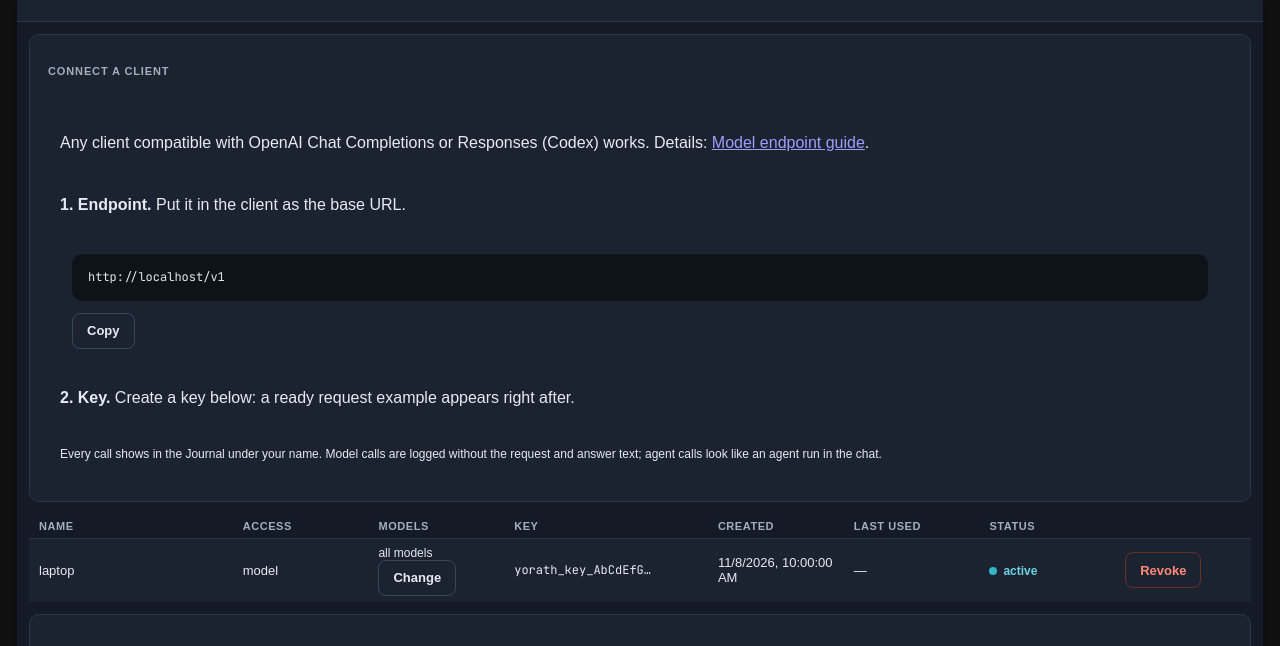
it: Models of a key › the list shows each key’s models; they change without a new key
Expected: the text "all models" is shown, [378,546,432,560]
Click the button with aria-label "Models: laptop" at (417, 578), box [378,560,456,596]
(page scrolled)
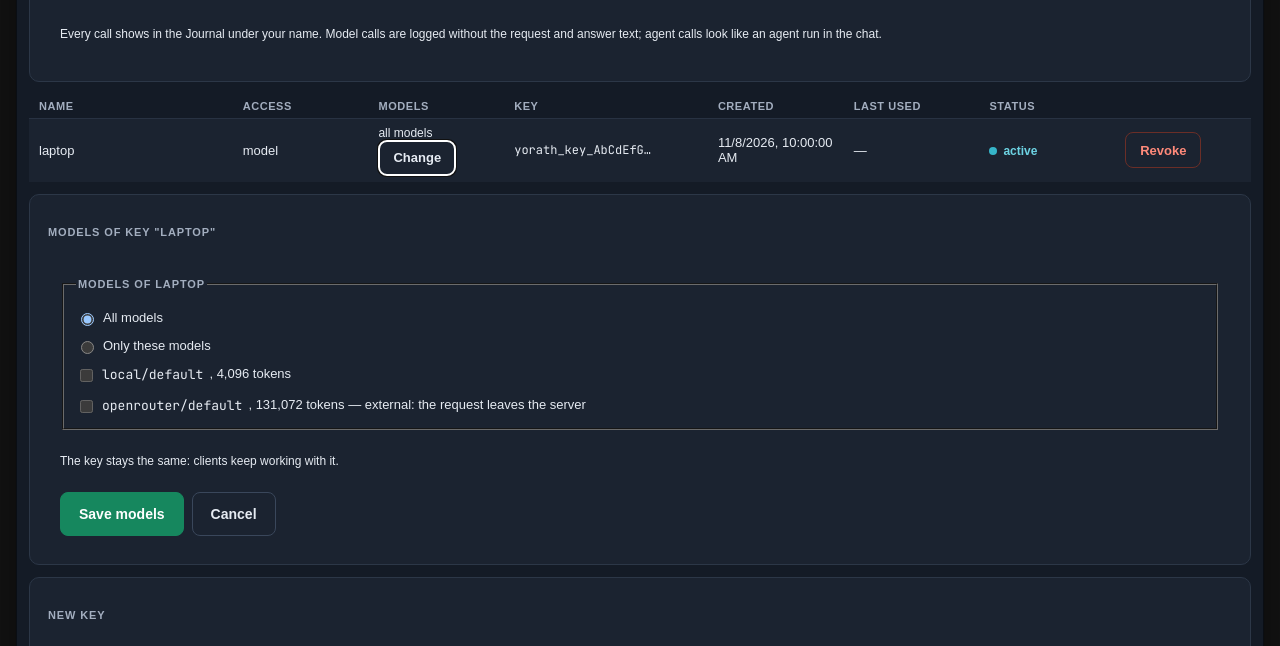
Click the radio button labelled "Only these models" at (88, 348), box [81,341,94,354]
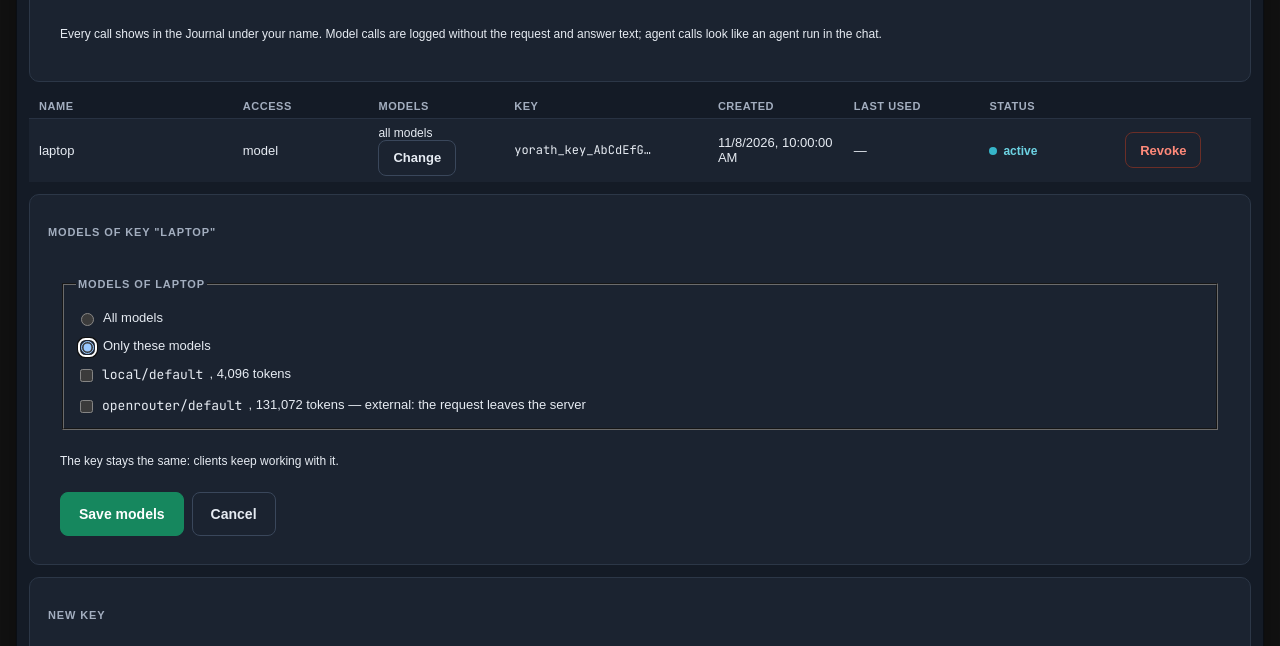
Click the checkbox labelled "openrouter/default" at (86, 407), box [80,400,93,413]
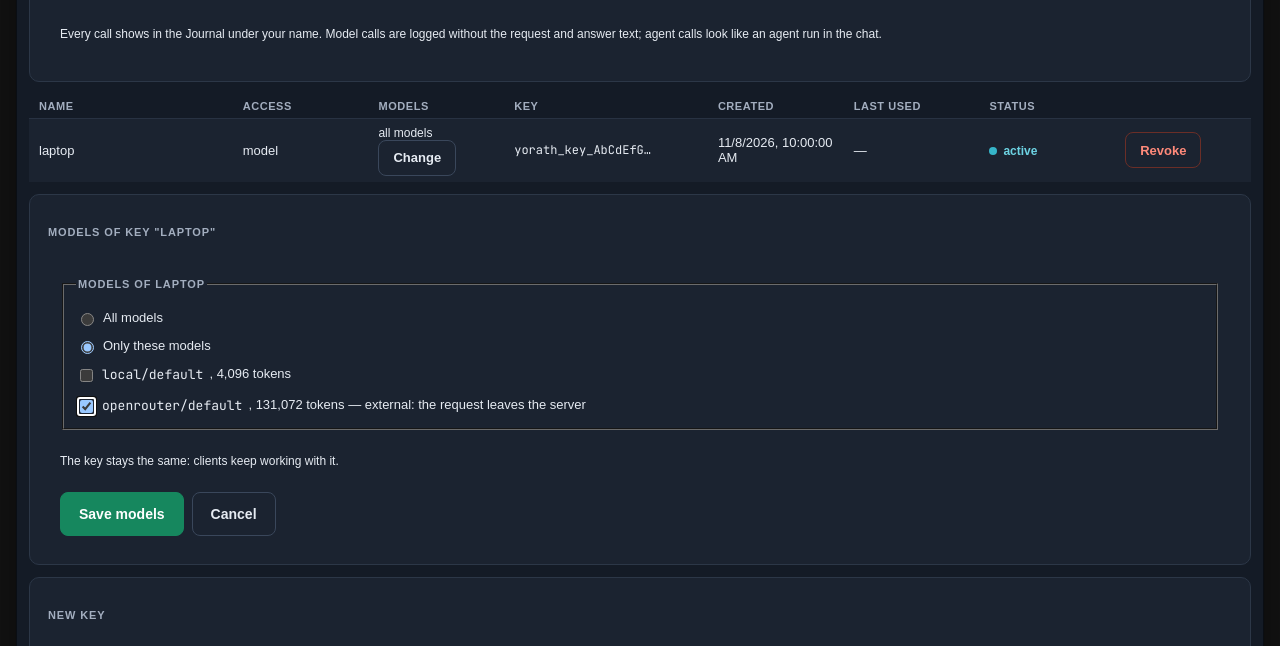
Click the button "Save models" at (122, 514), box [60,492,184,536]
(page scrolled)
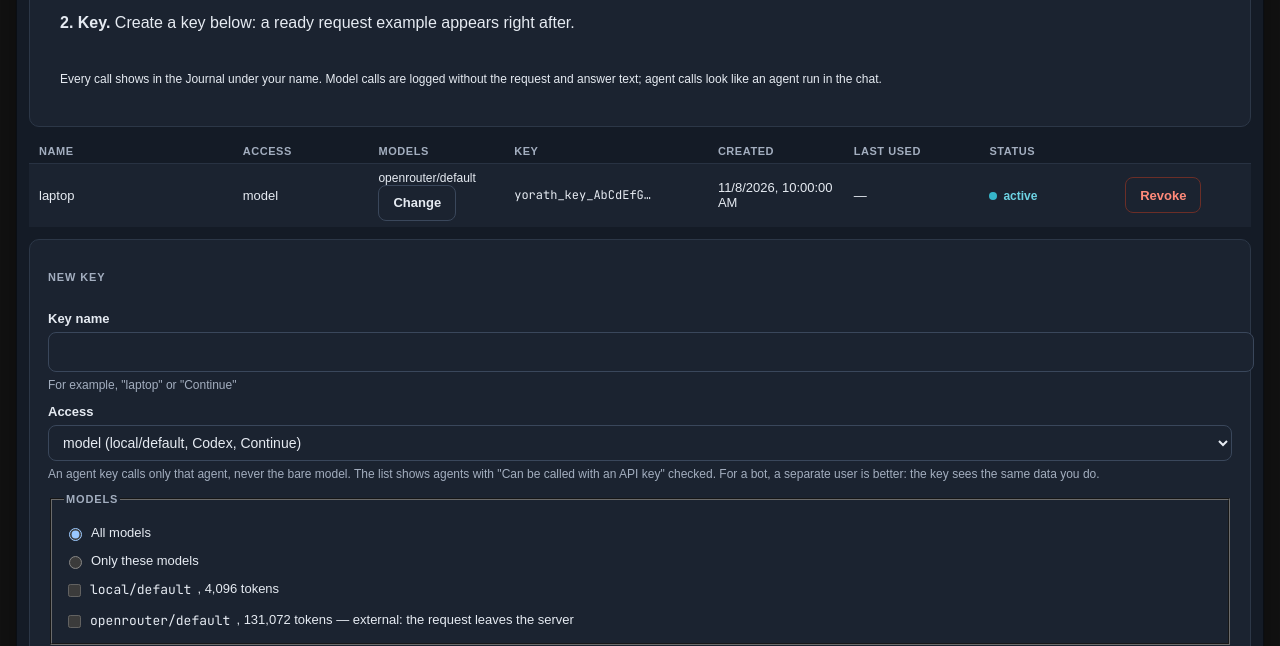
Result: the text "openrouter/default" is shown at [378,171,476,185]
